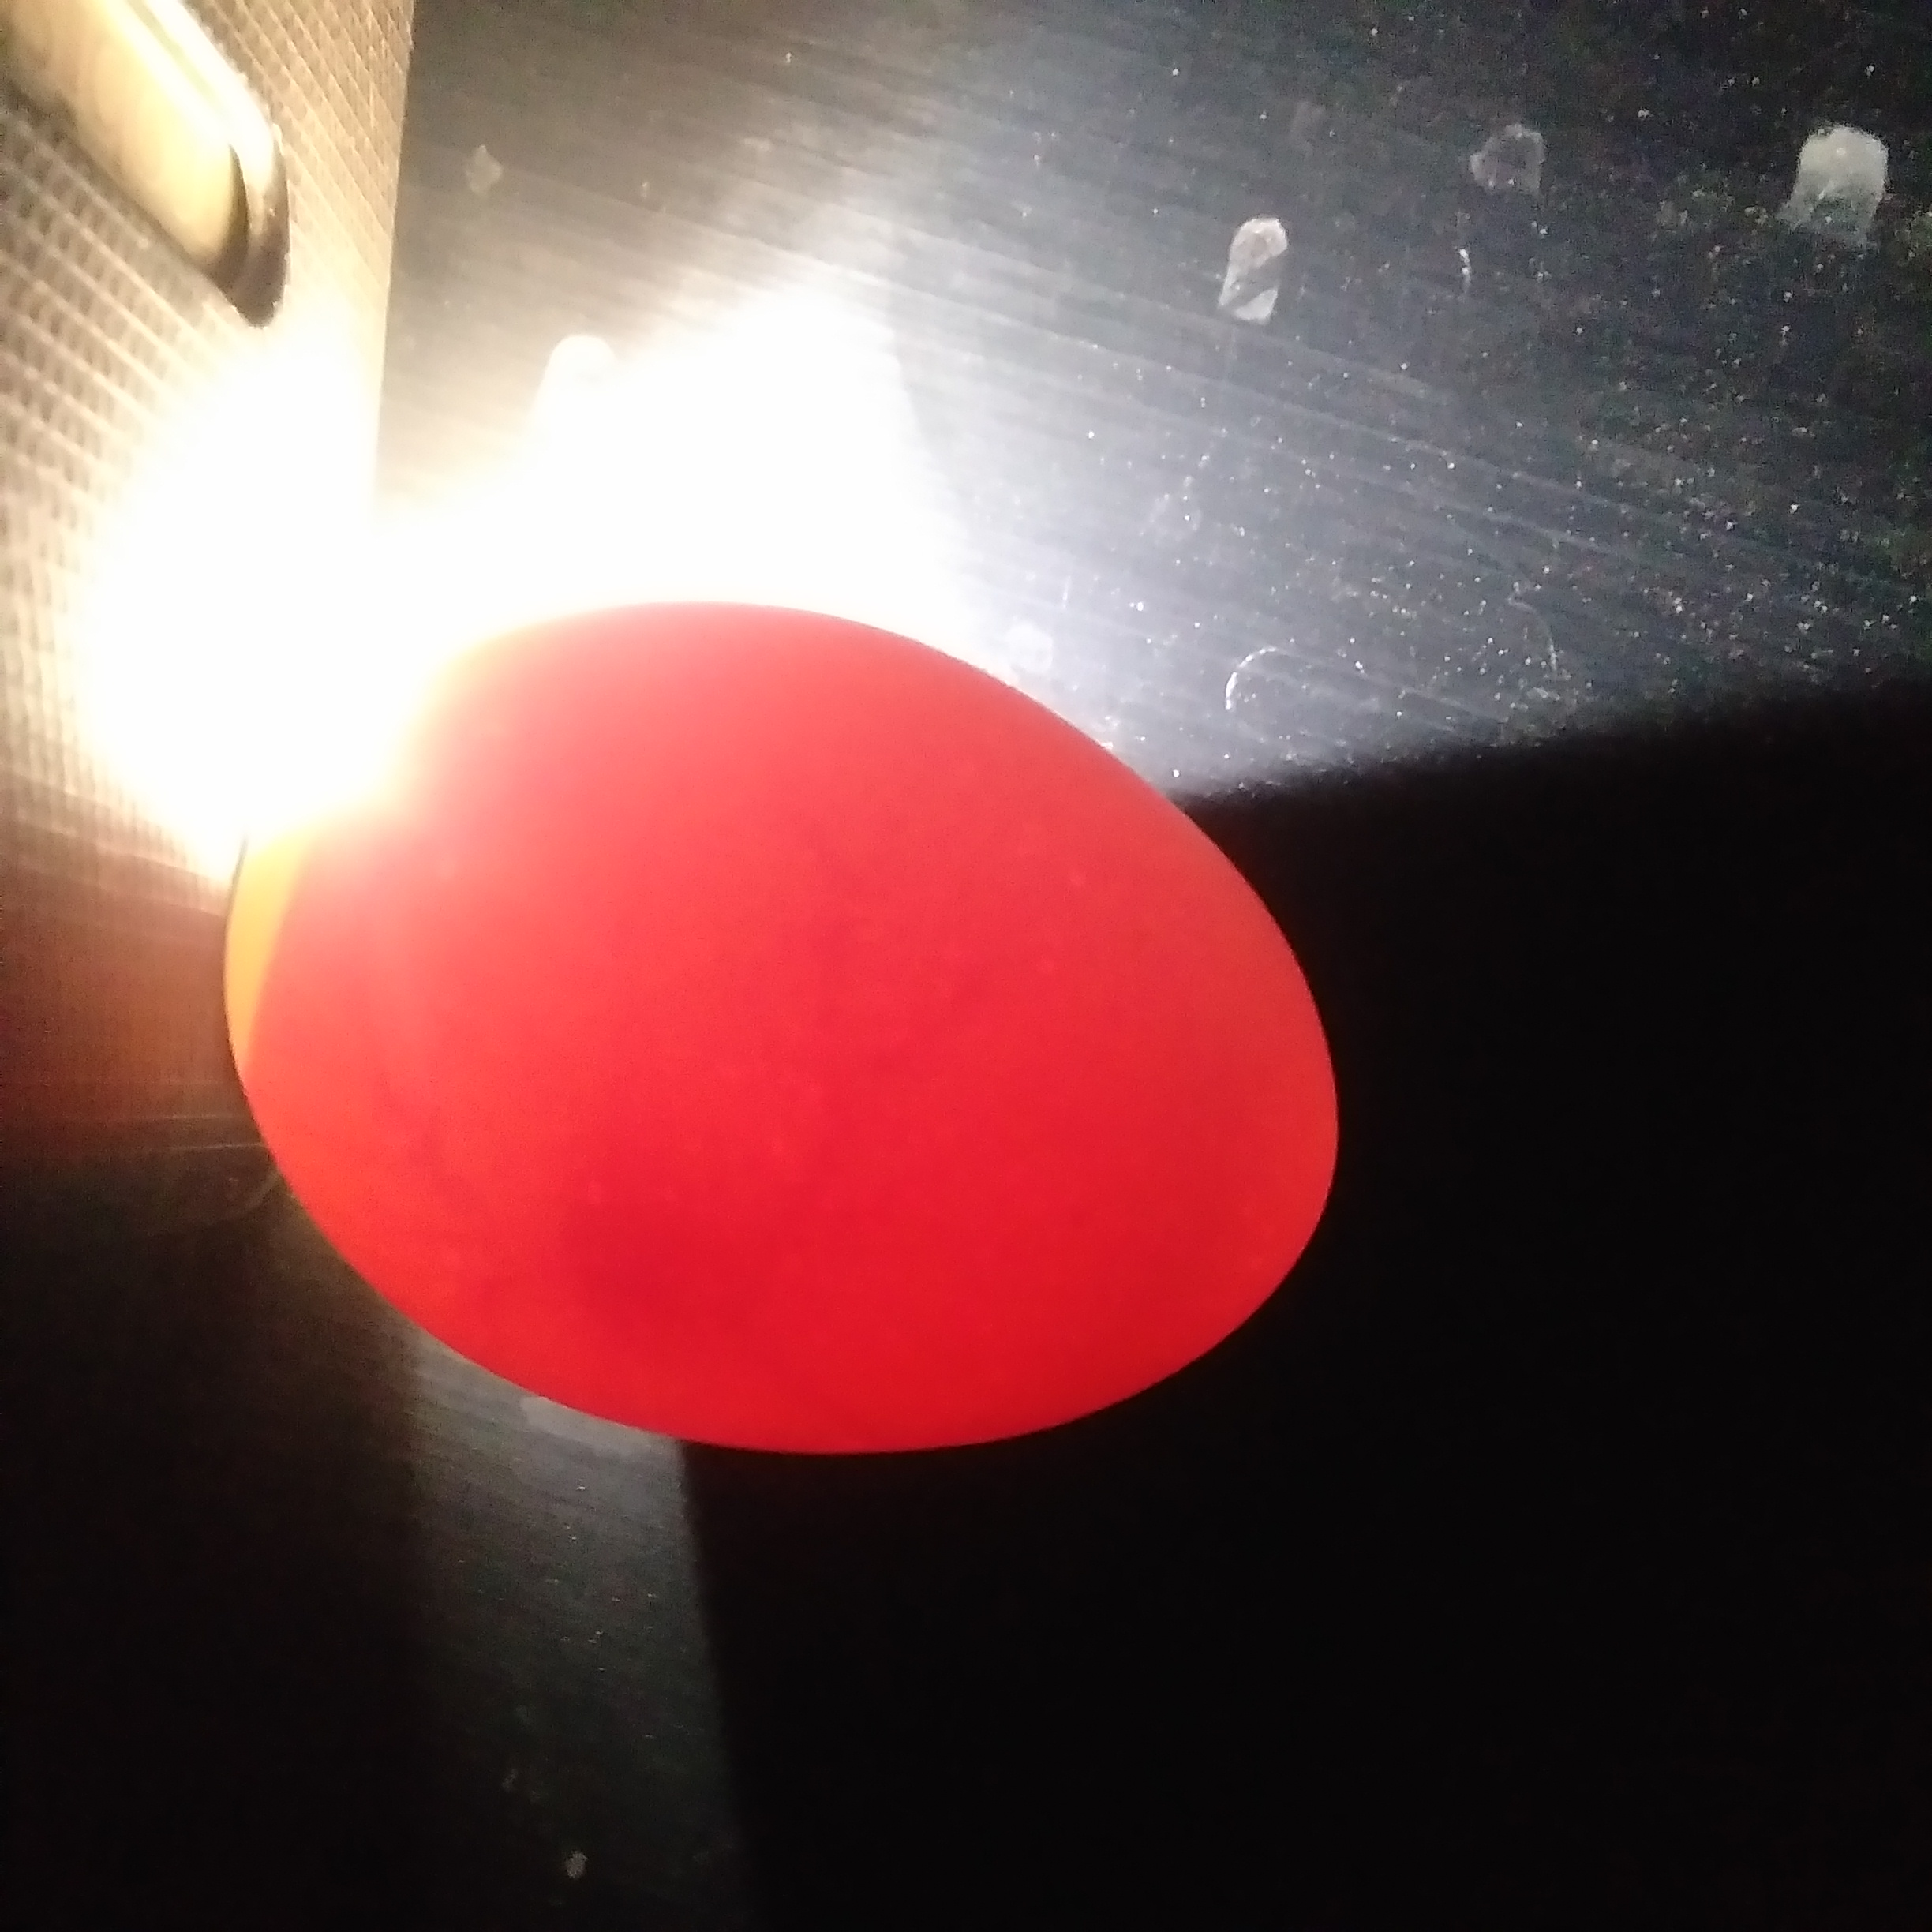bloodcell: (771, 796, 957, 1166), (340, 984, 490, 1254)
embryo: (556, 1169, 750, 1361)
